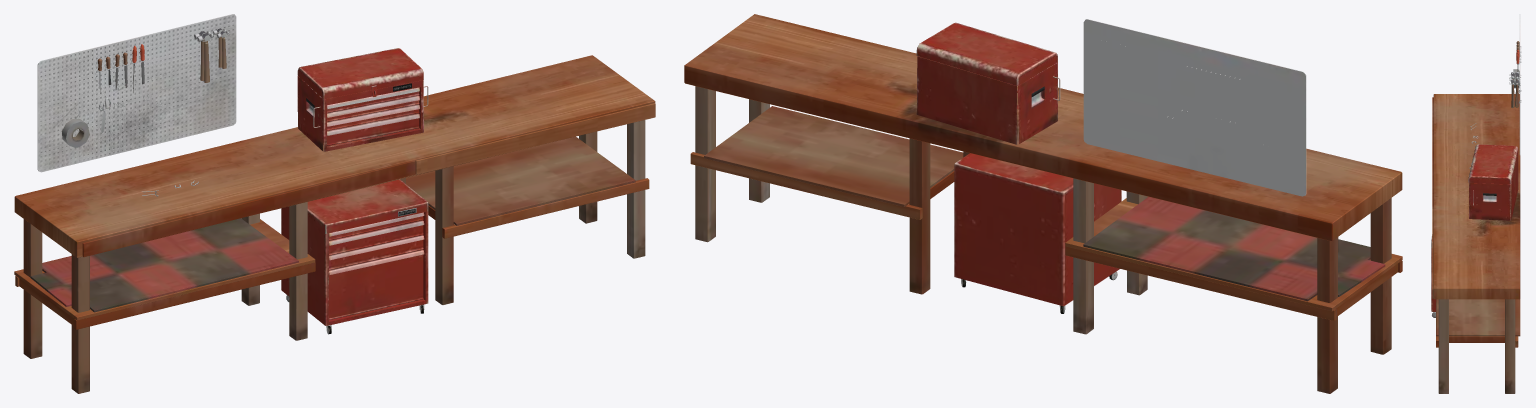
Rendered from pegbench.glb.
The picture shows the model from 3 angles, left to right: view 1: azimuth 30°, elevation 25°; view 2: azimuth 150°, elevation 25°; view 3: azimuth 270°, elevation 25°; orthographic projection. The views are drawn at different scales.
Size of the model in its own units: 372 by 175 by 72.79.
1 material, 1 textured.
